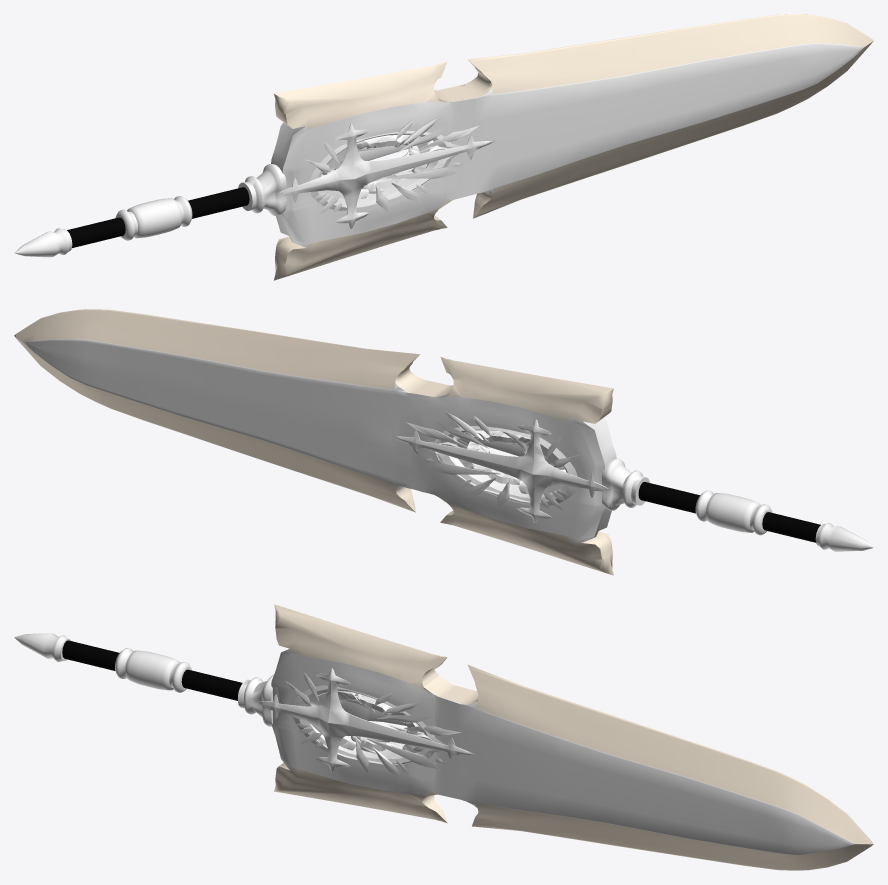
Rendered from Gsword_Textura.glb.
3 renders of one model, top to bottom at view 1: azimuth 30°, elevation 25°; view 2: azimuth 150°, elevation 25°; view 3: azimuth 330°, elevation 25°, orthographic.
Parts seen in each view (by area): view 1: Plane.002; view 2: Plane.002; view 3: Plane.002.
Part boxes in pixels (left/top/right/bottom): Plane.002: left=14, top=14, right=873, bottom=280; Plane.002: left=14, top=309, right=873, bottom=575; Plane.002: left=14, top=604, right=873, bottom=870.
Size of the model in its own units: 297 by 61.89 by 16.51.
